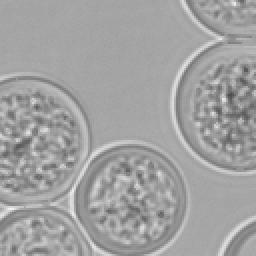picoshell: (70, 140, 188, 254), (0, 72, 90, 204), (170, 34, 254, 174), (0, 206, 90, 254), (180, 0, 254, 42), (218, 216, 254, 254)
